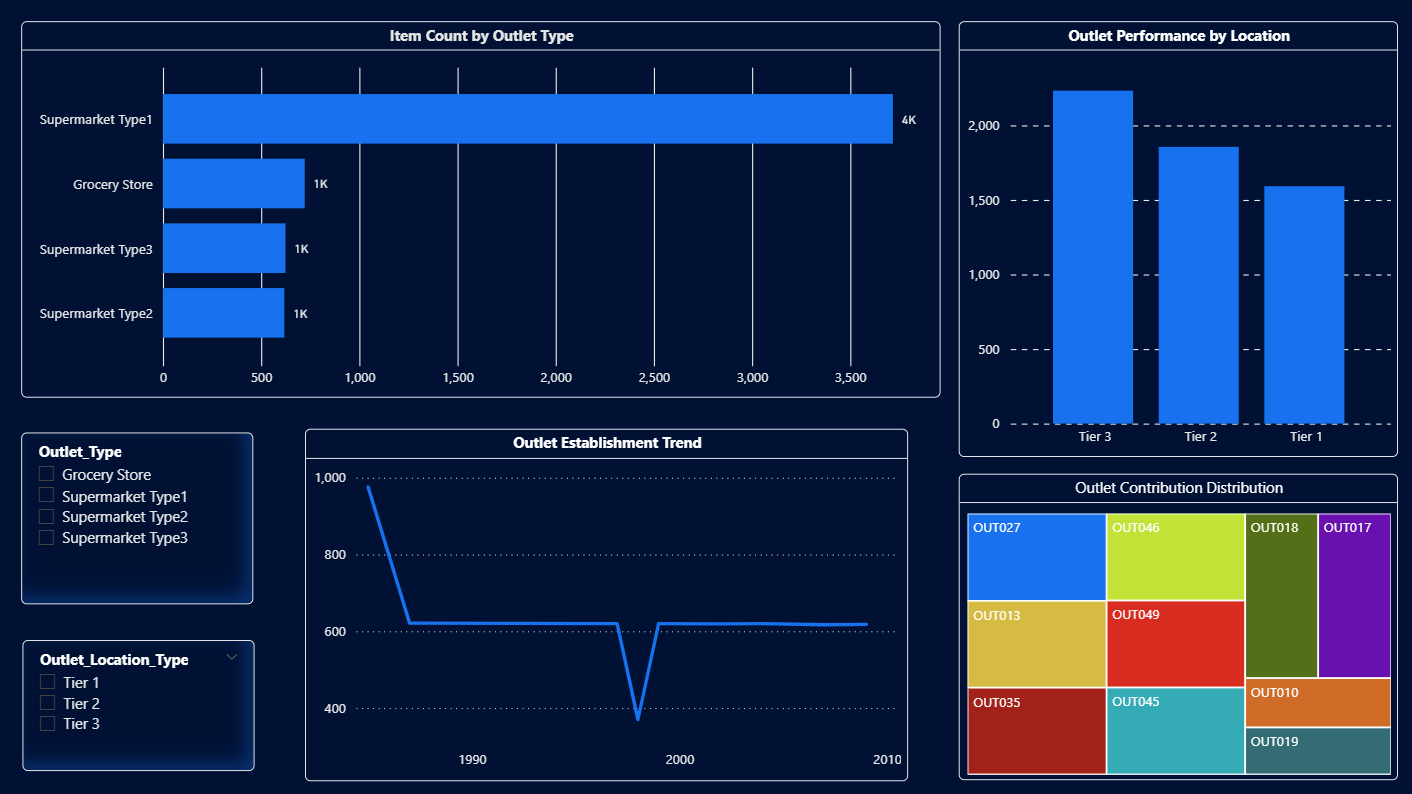

The dashboard page shown, as its layout file describes it:
{"tool":"powerbi","page":{"name":"Page 3","canvas":[1280,720],"ordinal":2},"visuals":[{"type":"barChart","title":"Item Count by Outlet Type","fields":{"Category":["Test.Outlet_Type"],"Y":["CountNonNull(Test.Item_Identifier)"]},"box":[19.2,19.2,830.2,340.3],"z":0},{"type":"columnChart","title":"Outlet Performance by Location","fields":{"Category":["Test.Outlet_Location_Type"],"Y":["CountNonNull(Test.Item_Identifier)"]},"box":[865.9,19.2,396.6,393.8],"z":1000},{"type":"lineChart","title":"Outlet Establishment Trend","fields":{"Category":["Test.Outlet_Establishment_Year"],"Y":["CountNonNull(Test.Item_Identifier)"]},"box":[275.8,387,544.8,318.4],"z":2000},{"type":"treemap","title":"Outlet Contribution Distribution","fields":{"Group":["Test.Outlet_Identifier"],"Values":["CountNonNull(Test.Item_Identifier)"]},"box":[865.9,428.1,396.6,277.2],"z":3000},{"type":"slicer","fields":{"Values":["Test.Outlet_Type"]},"box":[19.2,391.1,209.9,155.1],"z":4000},{"type":"slicer","fields":{"Values":["Test.Outlet_Location_Type"]},"box":[20.6,577.7,209.9,118],"z":5000}]}

Visuals, with their boxes in screenshot pixels (x1, y1, x2, y2), scaled from the page's 1280x720 canvas onto the 1412x794 screenshot:
"Item Count by Outlet Type" barChart: 21,21,937,396
"Outlet Performance by Location" columnChart: 955,21,1393,455
"Outlet Establishment Trend" lineChart: 304,427,905,778
"Outlet Contribution Distribution" treemap: 955,472,1393,778
slicer - Test.Outlet_Type: 21,431,253,602
slicer - Test.Outlet_Location_Type: 23,637,254,767
